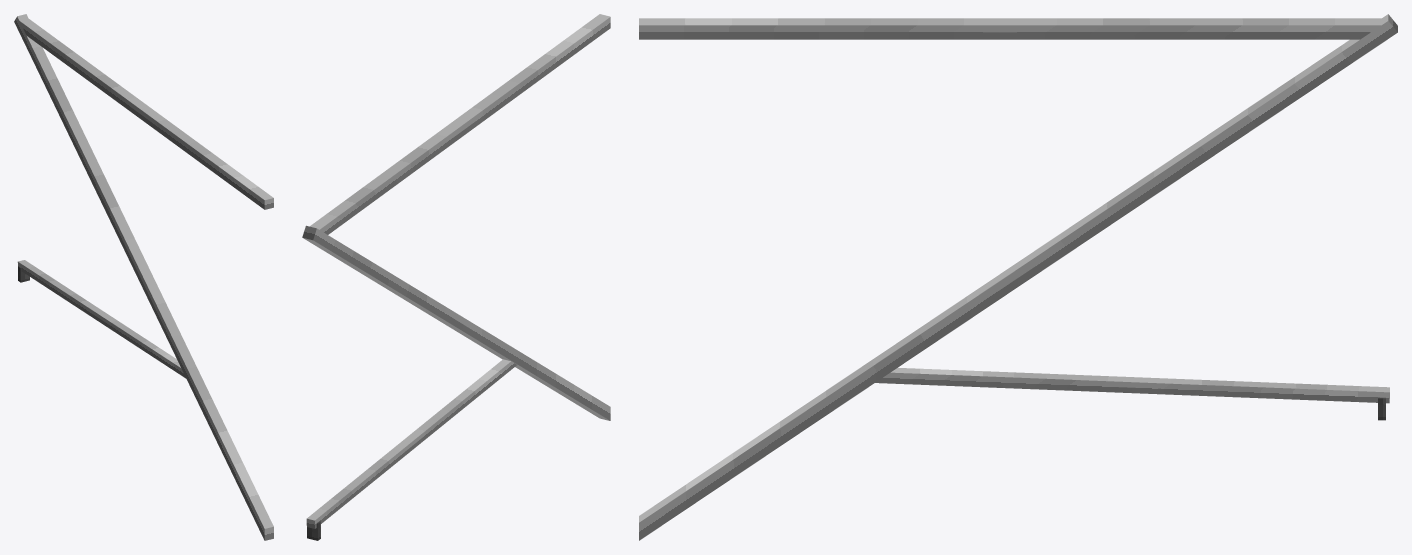
File: cantilever_center_4px.obj
3 renders of one model, left to right at view 1: azimuth 30°, elevation 25°; view 2: azimuth 150°, elevation 25°; view 3: azimuth 270°, elevation 25°, orthographic. The views are drawn at different scales.
Parts seen in each view (by area): view 1: ea8ecf8c-1e2b-4dff-85a1-fa9bf4a04128, ad39833e-f984-4618-8c72-c95c74b9af11, c031cf86-d1ad-4c09-9394-8f157ca3bc74; view 2: ad39833e-f984-4618-8c72-c95c74b9af11, ea8ecf8c-1e2b-4dff-85a1-fa9bf4a04128, c031cf86-d1ad-4c09-9394-8f157ca3bc74; view 3: ea8ecf8c-1e2b-4dff-85a1-fa9bf4a04128, ad39833e-f984-4618-8c72-c95c74b9af11, c031cf86-d1ad-4c09-9394-8f157ca3bc74.
Part boxes in pixels (left/top/right/bottom): ea8ecf8c-1e2b-4dff-85a1-fa9bf4a04128: left=14, top=14, right=273, bottom=540; ad39833e-f984-4618-8c72-c95c74b9af11: left=19, top=18, right=273, bottom=209; c031cf86-d1ad-4c09-9394-8f157ca3bc74: left=17, top=260, right=185, bottom=378; ad39833e-f984-4618-8c72-c95c74b9af11: left=310, top=14, right=610, bottom=234; ea8ecf8c-1e2b-4dff-85a1-fa9bf4a04128: left=302, top=225, right=610, bottom=420; c031cf86-d1ad-4c09-9394-8f157ca3bc74: left=306, top=359, right=516, bottom=528; ea8ecf8c-1e2b-4dff-85a1-fa9bf4a04128: left=639, top=14, right=1397, bottom=540; ad39833e-f984-4618-8c72-c95c74b9af11: left=639, top=18, right=1381, bottom=39; c031cf86-d1ad-4c09-9394-8f157ca3bc74: left=875, top=368, right=1389, bottom=403.
Size of the model in its own units: 0.0625 by 2.22 by 2.94.
